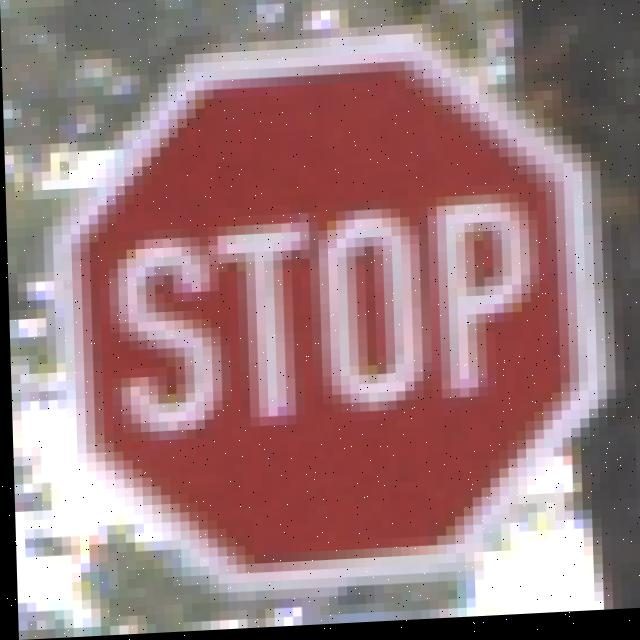stop: (42, 13, 623, 594)
